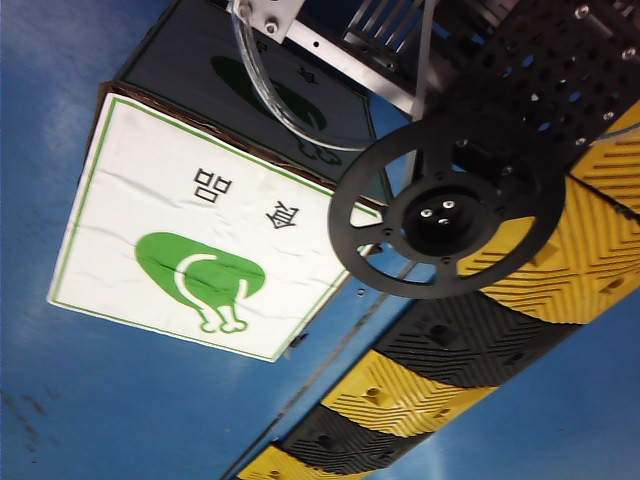Cube_food: (122, 149, 316, 342)
